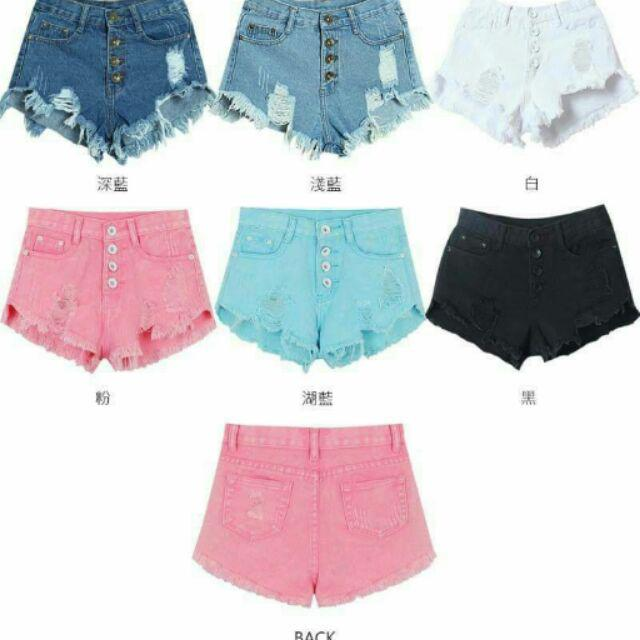Shorts: (193, 424, 440, 603), (6, 196, 211, 363), (218, 199, 427, 360), (4, 1, 213, 156), (430, 205, 636, 361), (226, 2, 426, 148), (436, 7, 639, 136)
